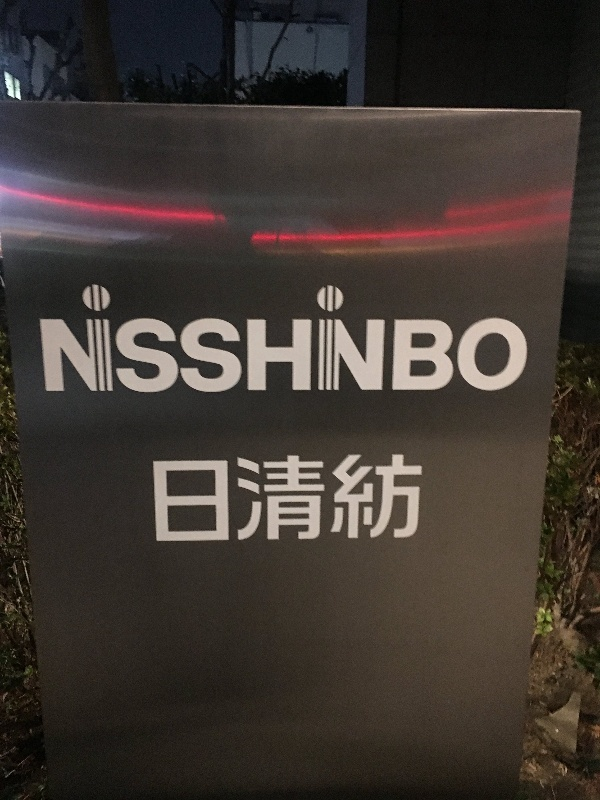text: (49, 281, 64, 397), (65, 281, 80, 397), (81, 281, 96, 397), (97, 281, 112, 397), (113, 281, 128, 397), (129, 281, 144, 397), (145, 281, 160, 397), (161, 281, 176, 397), (177, 281, 192, 397), (193, 281, 208, 397), (209, 281, 224, 397), (225, 281, 240, 397), (241, 281, 256, 397), (257, 281, 272, 397), (273, 281, 288, 397), (289, 281, 304, 397), (305, 281, 320, 397), (321, 281, 336, 397), (337, 281, 352, 397), (353, 281, 368, 397), (369, 281, 384, 397), (385, 281, 400, 397), (401, 281, 416, 397), (417, 281, 432, 397), (433, 281, 448, 397), (449, 281, 464, 397), (465, 281, 480, 397), (481, 281, 496, 397), (497, 281, 512, 397), (513, 281, 528, 397), (35, 281, 48, 397), (161, 455, 176, 547), (177, 455, 192, 547), (193, 455, 208, 547), (209, 455, 224, 547), (225, 455, 240, 547), (241, 455, 256, 547), (257, 455, 272, 547), (273, 455, 288, 547), (289, 455, 304, 547), (305, 455, 320, 547), (321, 455, 336, 547), (337, 455, 352, 547), (353, 455, 368, 547), (369, 455, 384, 547), (385, 455, 400, 547), (401, 455, 416, 547), (152, 455, 160, 547), (417, 455, 425, 547), (529, 281, 530, 397)
